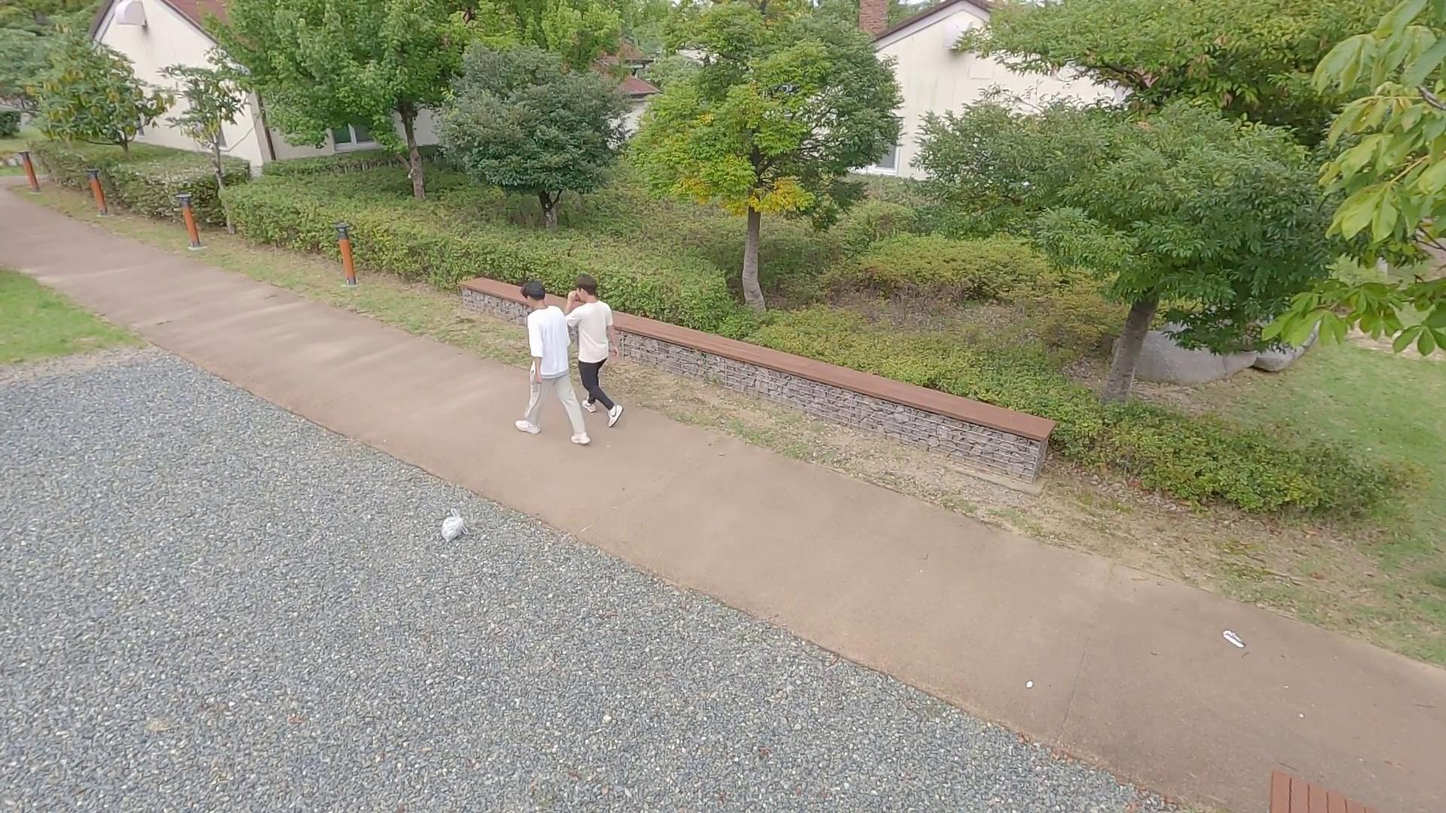person: (514, 280, 593, 447), (553, 271, 635, 429)
trash: (433, 507, 473, 544)
